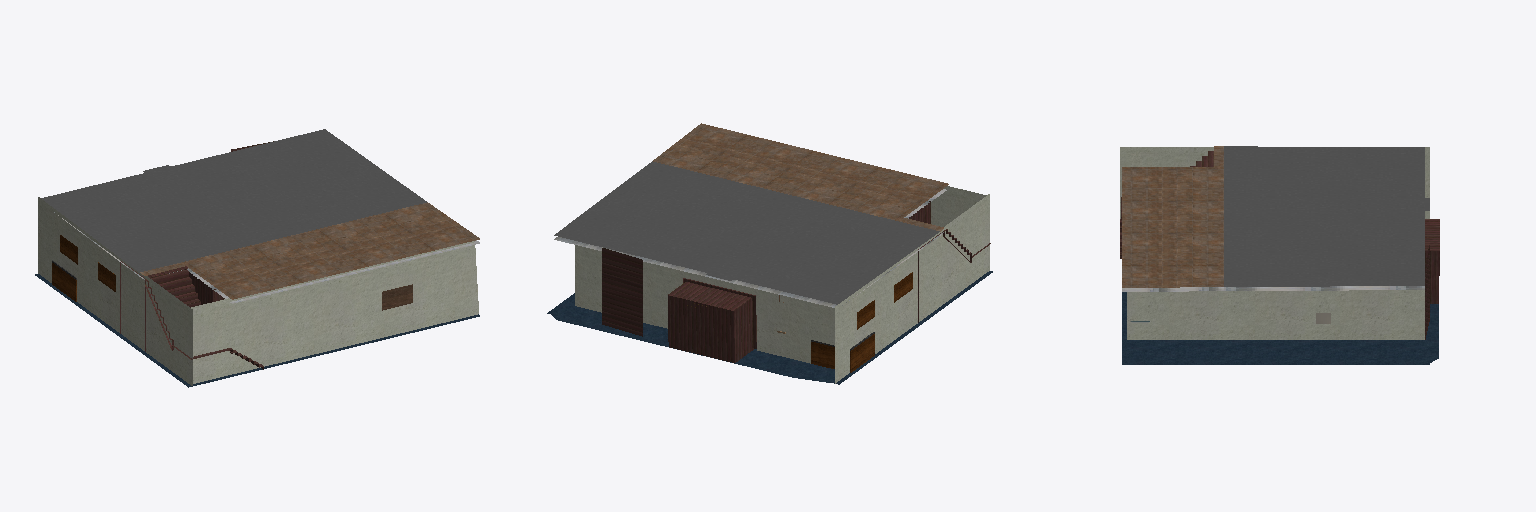
3 views of the same model, side by side, from view 1: azimuth 30°, elevation 25°; view 2: azimuth 150°, elevation 25°; view 3: azimuth 270°, elevation 25° (orthographic).
Parts seen in each view (by area): view 1: Shop_VHS.003_Cube.129, Floor_Carpet_Cube.005, Floor_Carpet.001_Cube.267, Shop_VHS.004_Cube.145, Shop_VHS.007_Cube.284, kitchen_door_06.001_Cube.175, Shop_VHS.002_Cube.107, Blackboard_Cube.286; view 2: Floor_Carpet_Cube.005, Shop_VHS.003_Cube.129, Floor_Carpet.001_Cube.267, Shop_VHS.004_Cube.145, Shop_VHS.007_Cube.284, kitchen_door_06.001_Cube.175, Shop_VHS.002_Cube.107; view 3: Floor_Carpet_Cube.005, Shop_VHS.003_Cube.129, Floor_Carpet.001_Cube.267, Shop_VHS.007_Cube.284, Shop_VHS.004_Cube.145, Shop_VHS.002_Cube.107.
Boxes of the visible parts, <box> form: Shop_VHS.003_Cube.129: <box>38,197,478,385</box>; Floor_Carpet_Cube.005: <box>41,129,426,272</box>; Floor_Carpet.001_Cube.267: <box>140,202,479,299</box>; Shop_VHS.004_Cube.145: <box>120,141,273,369</box>; Shop_VHS.007_Cube.284: <box>35,274,479,387</box>; kitchen_door_06.001_Cube.175: <box>52,235,115,301</box>; Shop_VHS.002_Cube.107: <box>54,212,479,303</box>; Blackboard_Cube.286: <box>382,284,412,310</box>; Floor_Carpet_Cube.005: <box>554,161,939,304</box>; Shop_VHS.003_Cube.129: <box>575,186,989,383</box>; Floor_Carpet.001_Cube.267: <box>653,123,948,231</box>; Shop_VHS.004_Cube.145: <box>602,201,990,362</box>; Shop_VHS.007_Cube.284: <box>547,271,992,384</box>; kitchen_door_06.001_Cube.175: <box>811,272,912,372</box>; Shop_VHS.002_Cube.107: <box>554,189,946,307</box>; Floor_Carpet_Cube.005: <box>1224,146,1429,286</box>; Shop_VHS.003_Cube.129: <box>1120,147,1429,339</box>; Floor_Carpet.001_Cube.267: <box>1122,146,1223,287</box>; Shop_VHS.007_Cube.284: <box>1122,292,1438,364</box>; Shop_VHS.004_Cube.145: <box>1120,151,1439,339</box>; Shop_VHS.002_Cube.107: <box>1122,286,1424,291</box>.
Bounding box in the file's own units: 492 × 126 × 466.
36 materials, 36 textured.